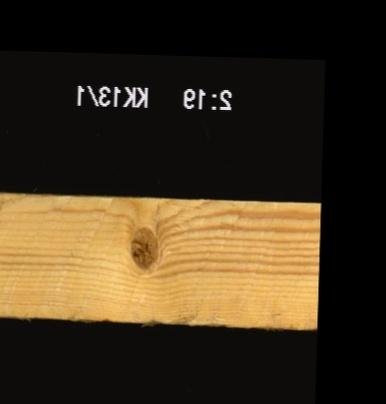sound_knot: (125, 224, 162, 269)
